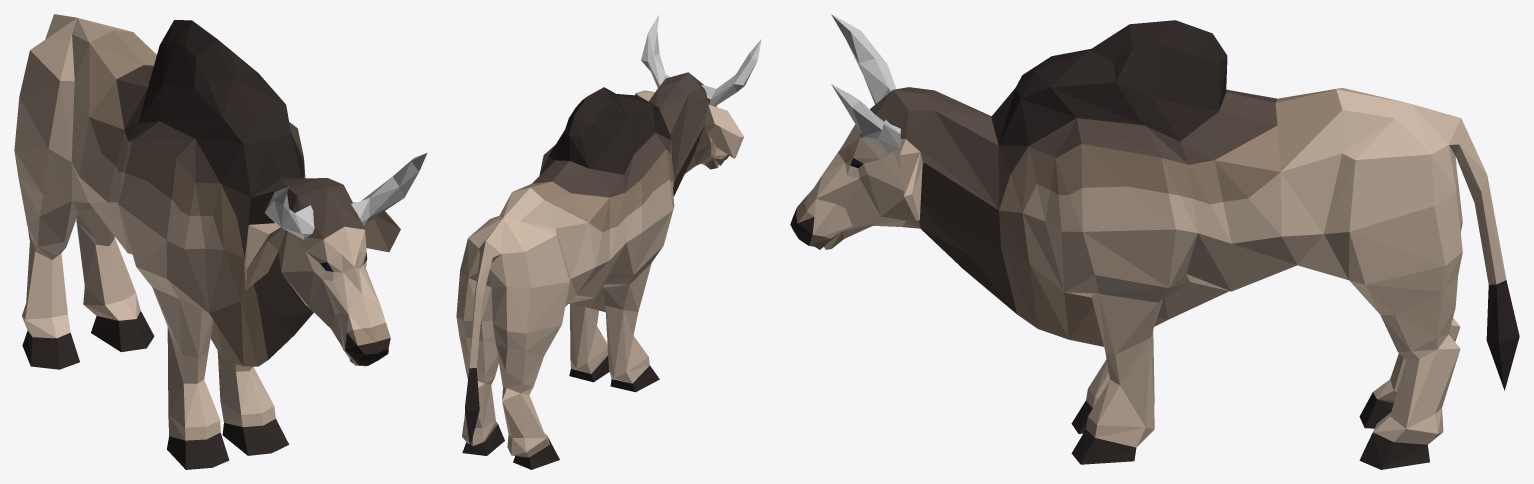
Rendered from animalZebu.dae.
3 renders of one model, left to right at view 1: azimuth 30°, elevation 25°; view 2: azimuth 150°, elevation 25°; view 3: azimuth 270°, elevation 25°, orthographic. The views are drawn at different scales.
Parts seen in each view (by area): view 1: Mesh1FBXASC032Model; view 2: Mesh1FBXASC032Model; view 3: Mesh1FBXASC032Model.
Boxes of the visible parts, left/top/right/bottom form: Mesh1FBXASC032Model: left=14, top=14, right=427, bottom=469; Mesh1FBXASC032Model: left=456, top=14, right=761, bottom=469; Mesh1FBXASC032Model: left=790, top=14, right=1519, bottom=469.
Size of the model in its own units: 86.82 by 214 by 338.
